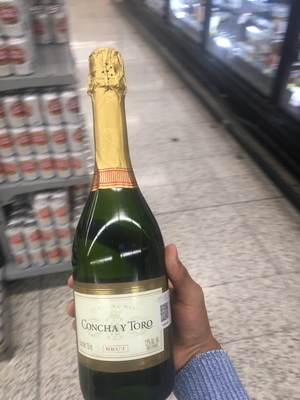brut: (64, 51, 172, 400)
